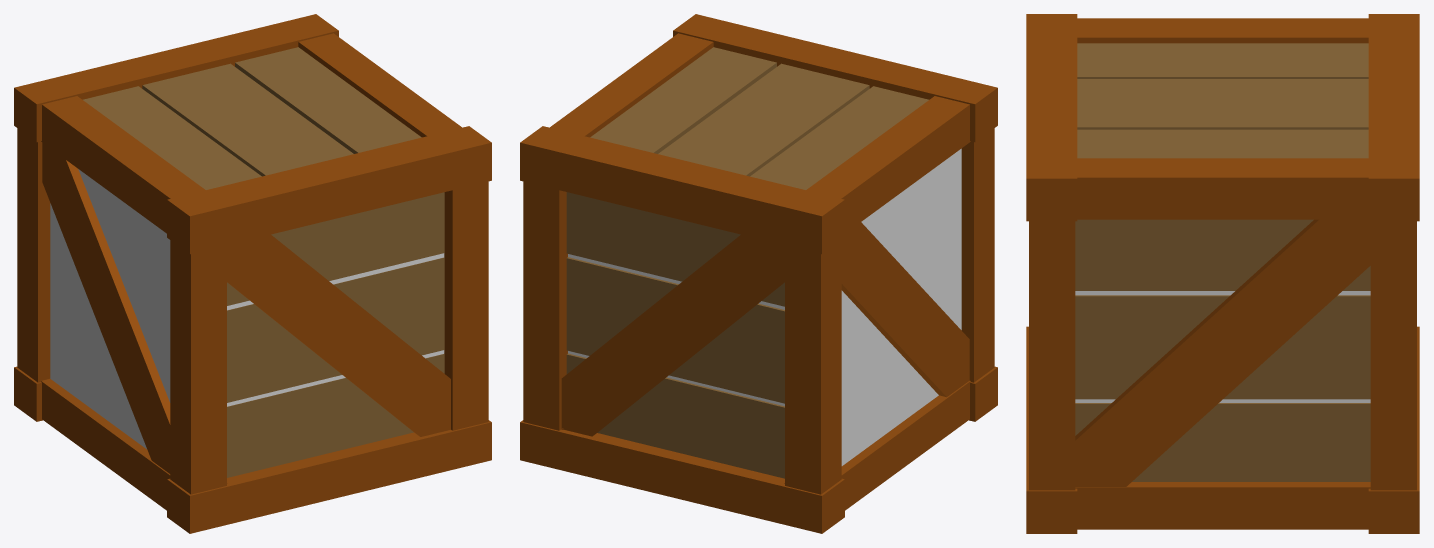
The picture shows the model from 3 angles, left to right: view 1: azimuth 30°, elevation 25°; view 2: azimuth 150°, elevation 25°; view 3: azimuth 270°, elevation 25°; orthographic projection. The views are drawn at different scales.
Visible parts, largest first — view 1: Cube.030, Cube, Cube.033, Cube.029, Cube.021, Cube.002, Cube.032, Cube.001, Cube.017, Cube.019, Cube.028, Cube.026 (+7 smaller); view 2: Cube.028, Cube, Cube.034, Cube.027, Cube.022, Cube.005, Cube.004, Cube.017, Cube.032, Cube.020, Cube.030, Cube.006 (+7 smaller); view 3: Cube.031, Cube.008, Cube.024, Cube.007, Cube.017, Cube.009, Cube.023, Cube.019, Cube.020, Cube.028, Cube.030, Cube.016 (+5 smaller).
Boxes of the visible parts, left/top/right/bottom form: Cube.030: left=167, top=126, right=491, bottom=254; Cube: left=50, top=169, right=444, bottom=449; Cube.033: left=227, top=234, right=450, bottom=436; Cube.029: left=167, top=420, right=491, bottom=533; Cube.021: left=170, top=240, right=226, bottom=494; Cube.002: left=227, top=257, right=444, bottom=402; Cube.032: left=42, top=143, right=170, bottom=473; Cube.001: left=227, top=354, right=444, bottom=477; Cube.017: left=142, top=63, right=353, bottom=176; Cube.019: left=444, top=181, right=488, bottom=430; Cube.028: left=14, top=14, right=338, bottom=142; Cube.026: left=41, top=96, right=205, bottom=233; Cube.028: left=520, top=126, right=844, bottom=254; Cube: left=568, top=148, right=961, bottom=465; Cube.034: left=561, top=234, right=784, bottom=436; Cube.027: left=520, top=420, right=844, bottom=533; Cube.022: left=785, top=240, right=841, bottom=494; Cube.005: left=566, top=257, right=784, bottom=403; Cube.004: left=566, top=353, right=784, bottom=478; Cube.017: left=658, top=63, right=869, bottom=176; Cube.032: left=841, top=222, right=969, bottom=397; Cube.020: left=523, top=181, right=567, bottom=430; Cube.030: left=673, top=14, right=997, bottom=142; Cube.006: left=566, top=192, right=784, bottom=306; Cube.031: left=1075, top=219, right=1370, bottom=486; Cube.008: left=1075, top=295, right=1370, bottom=399; Cube.024: left=1077, top=158, right=1368, bottom=219; Cube.007: left=1075, top=403, right=1370, bottom=481; Cube.017: left=1077, top=79, right=1368, bottom=129; Cube.009: left=1075, top=219, right=1370, bottom=290; Cube.023: left=1075, top=482, right=1370, bottom=529; Cube.019: left=1029, top=221, right=1075, bottom=490; Cube.020: left=1370, top=221, right=1416, bottom=490; Cube.028: left=1368, top=14, right=1419, bottom=221; Cube.030: left=1026, top=14, right=1077, bottom=221; Cube.016: left=1077, top=43, right=1368, bottom=78.
Size of the model in its own units: 223 by 224 by 224.
